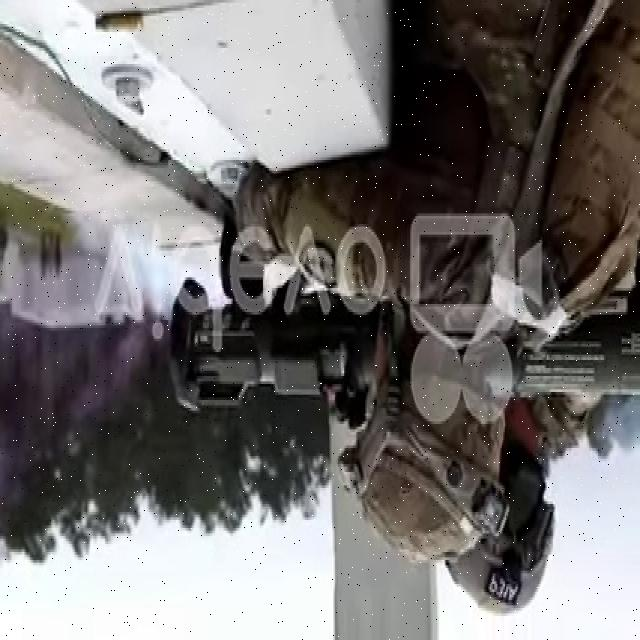bazooka: (164, 274, 640, 405)
